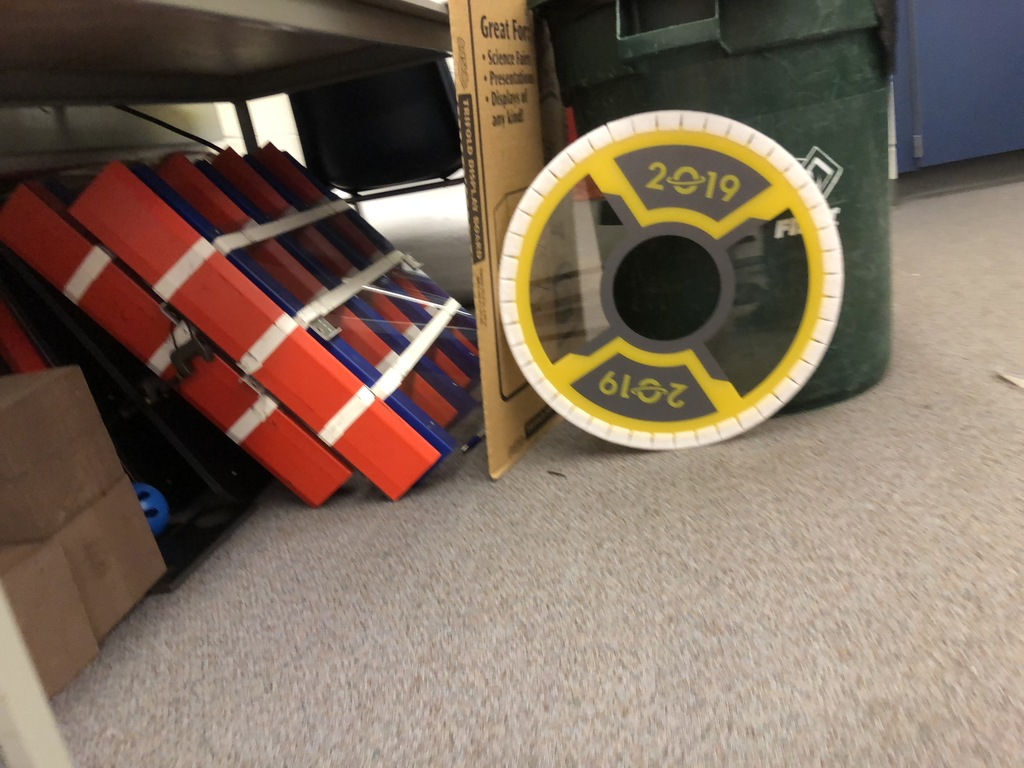hatch_panel: (487, 99, 852, 471)
